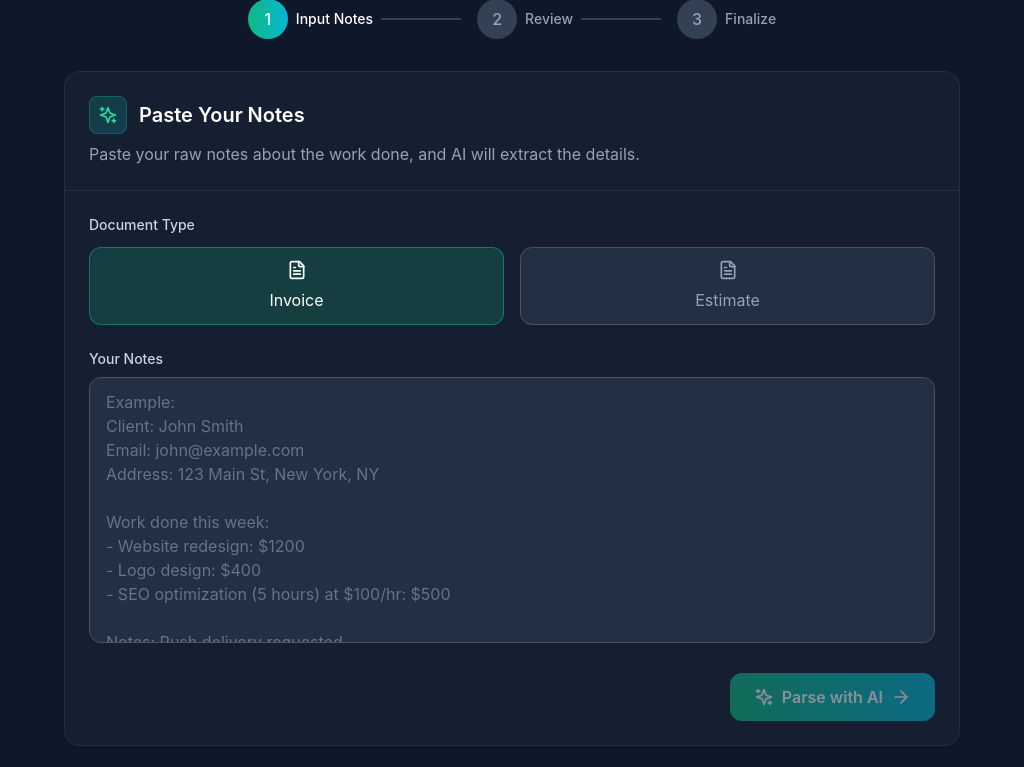
Scenario: Full invoice creation happy path › advances to the Finalize step when "Preview & Save" is clicked
Replace the text in the text box with placeholder "Example:" with "Design work for Acme Corp" at (512, 510), box [89,377,935,643]
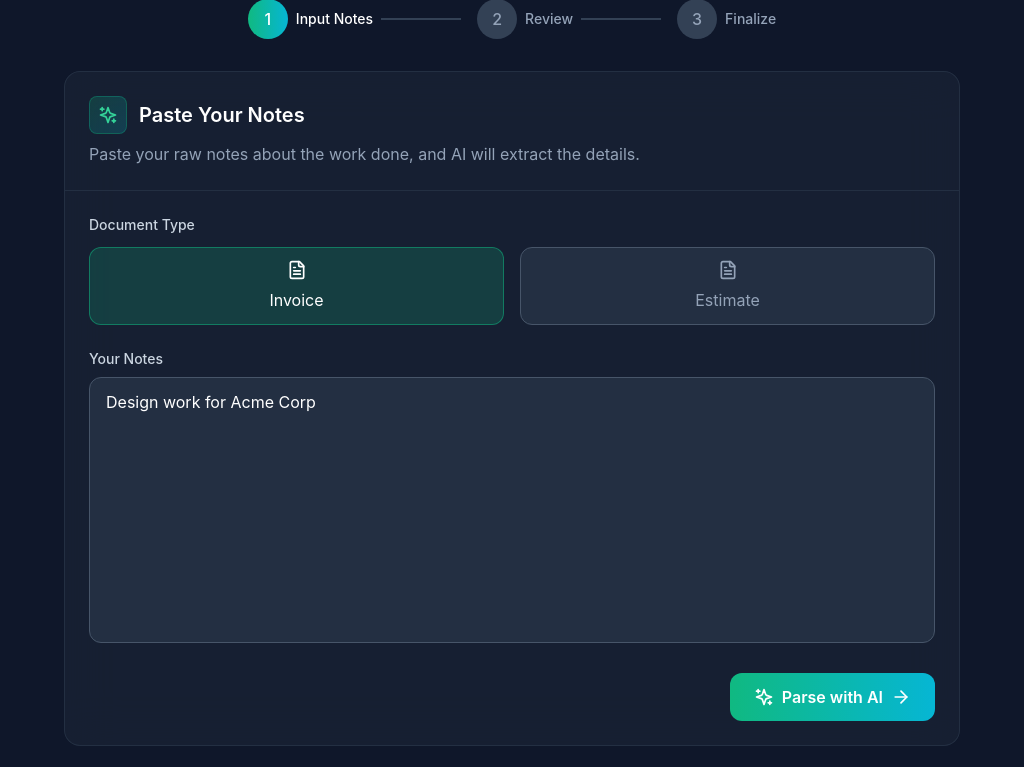
Click the button "Parse with AI".
click(832, 697)  # box [730,673,935,721]
(page scrolled)
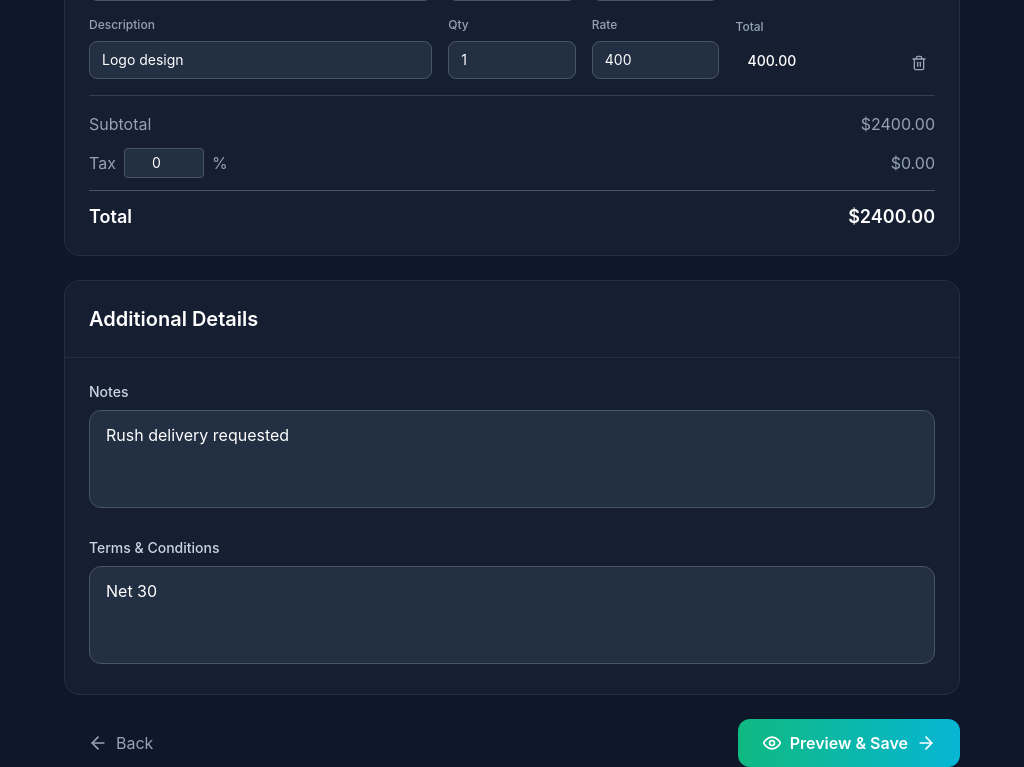
Click the button "Preview & Save".
click(849, 743)  # box [738,719,960,766]
(page scrolled)
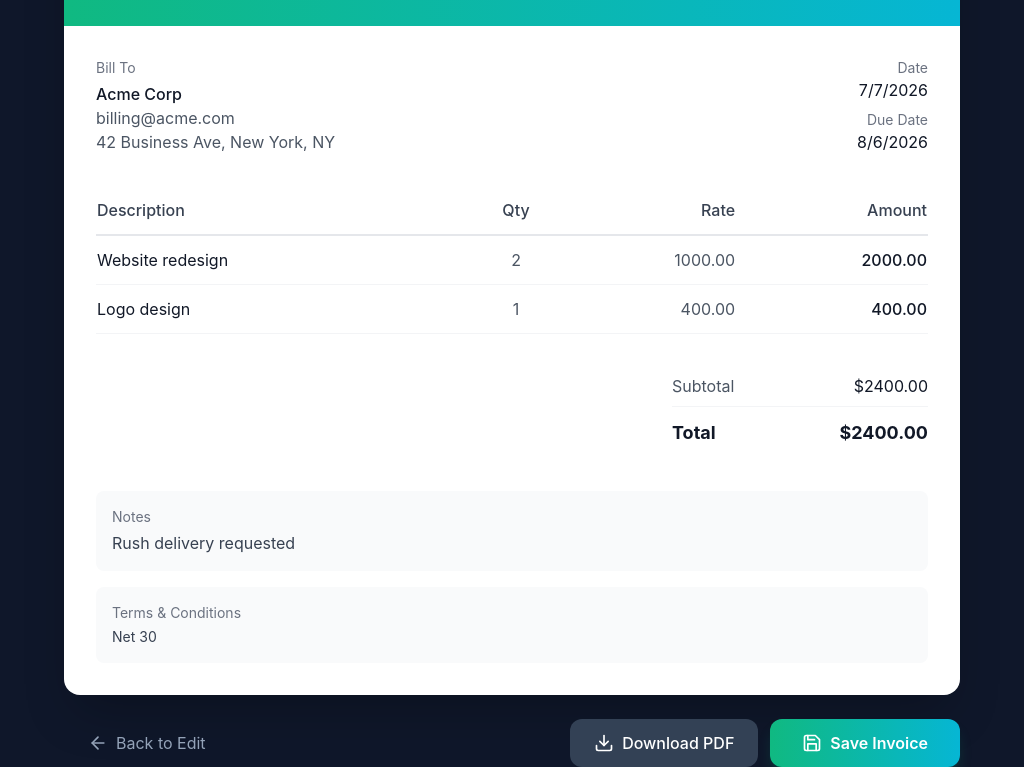
Now the button "Save Invoice" is shown, box [770,719,960,766]
Now the text "Acme Corp" is shown, box [96,84,182,104]
